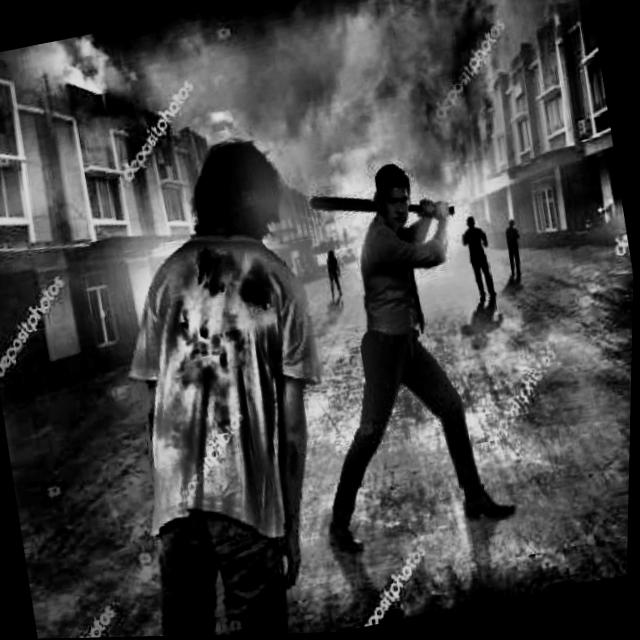tongkat pemukul: (301, 193, 464, 220)
